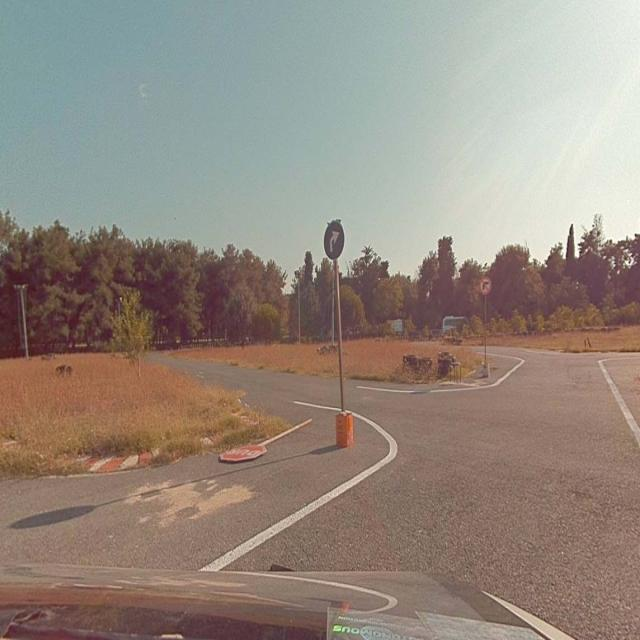sag: (324, 222, 344, 257)
sagadonulmez: (480, 276, 492, 294)
